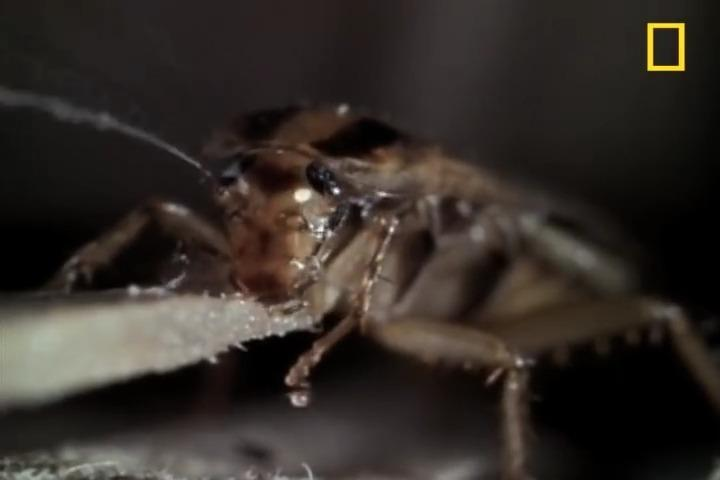cockroach: (0, 87, 720, 479)
